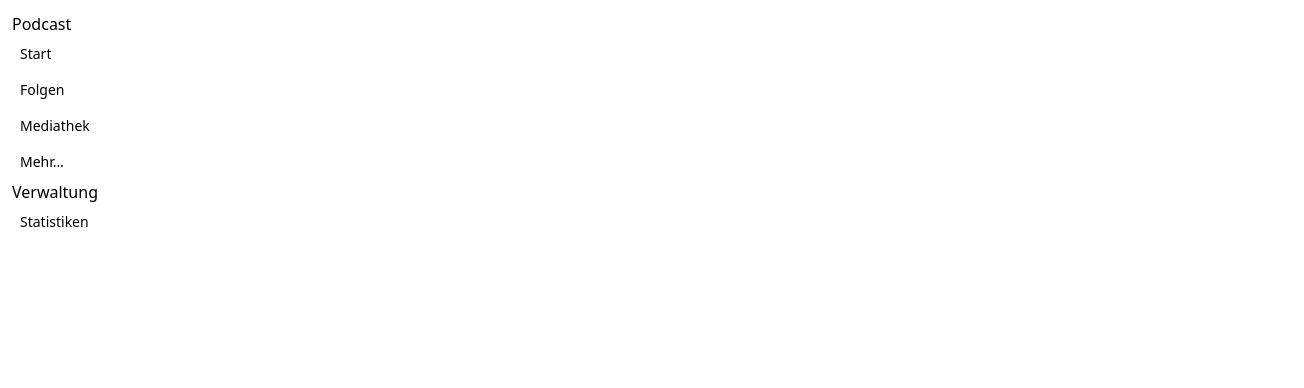
Test case: SideNav › desk-scoped navigation › shows only Podcast desk groups and shared hubs when on /podcast/*
Click the button "Mehr…". click: click(42, 162)
box: x1=12 y1=144 x2=1292 y2=180
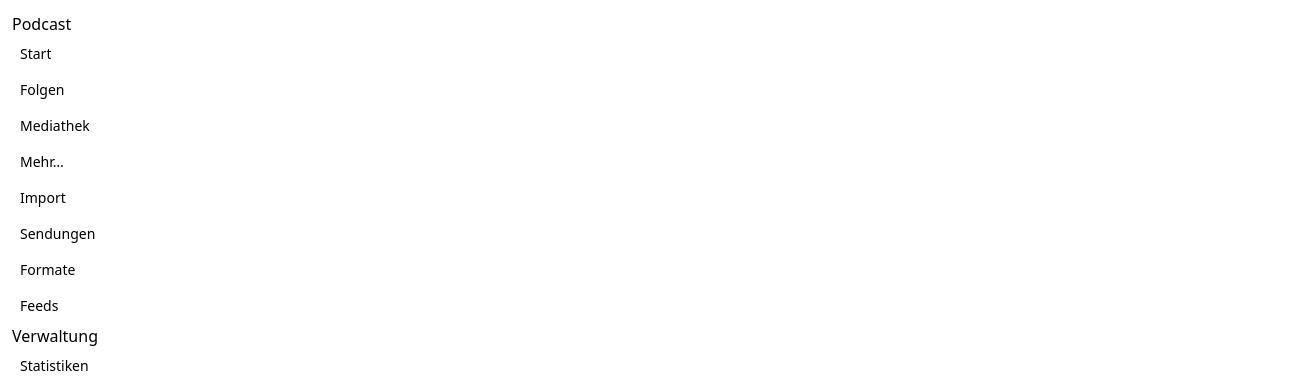
Result: the number of links "Mediathek" is 1 at x1=20 y1=116 x2=90 y2=135
